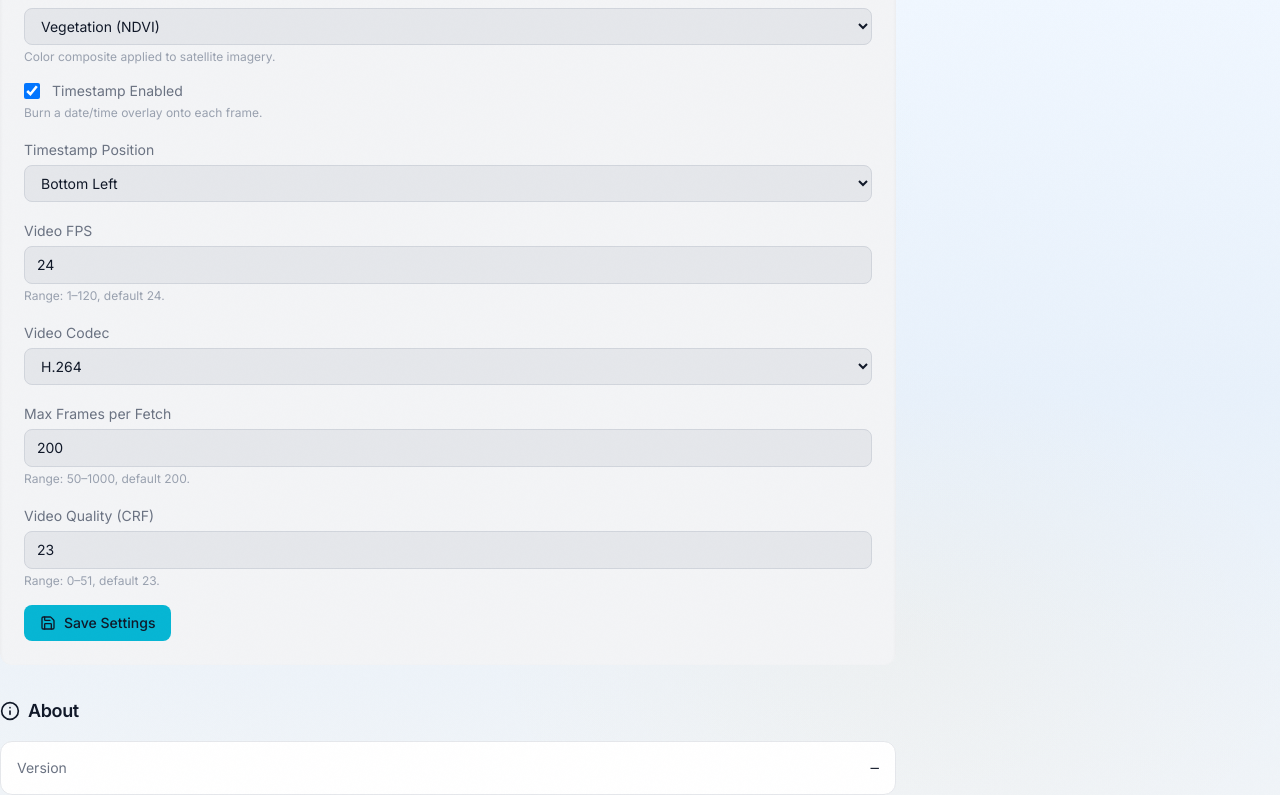
it: Settings - form interactions › saves settings successfully and shows toast
The width and height of the screenshot is (1280, 795).
(page scrolled)
Step 1. Click the button "Save Settings" → (98, 623), box [24,605,171,641]
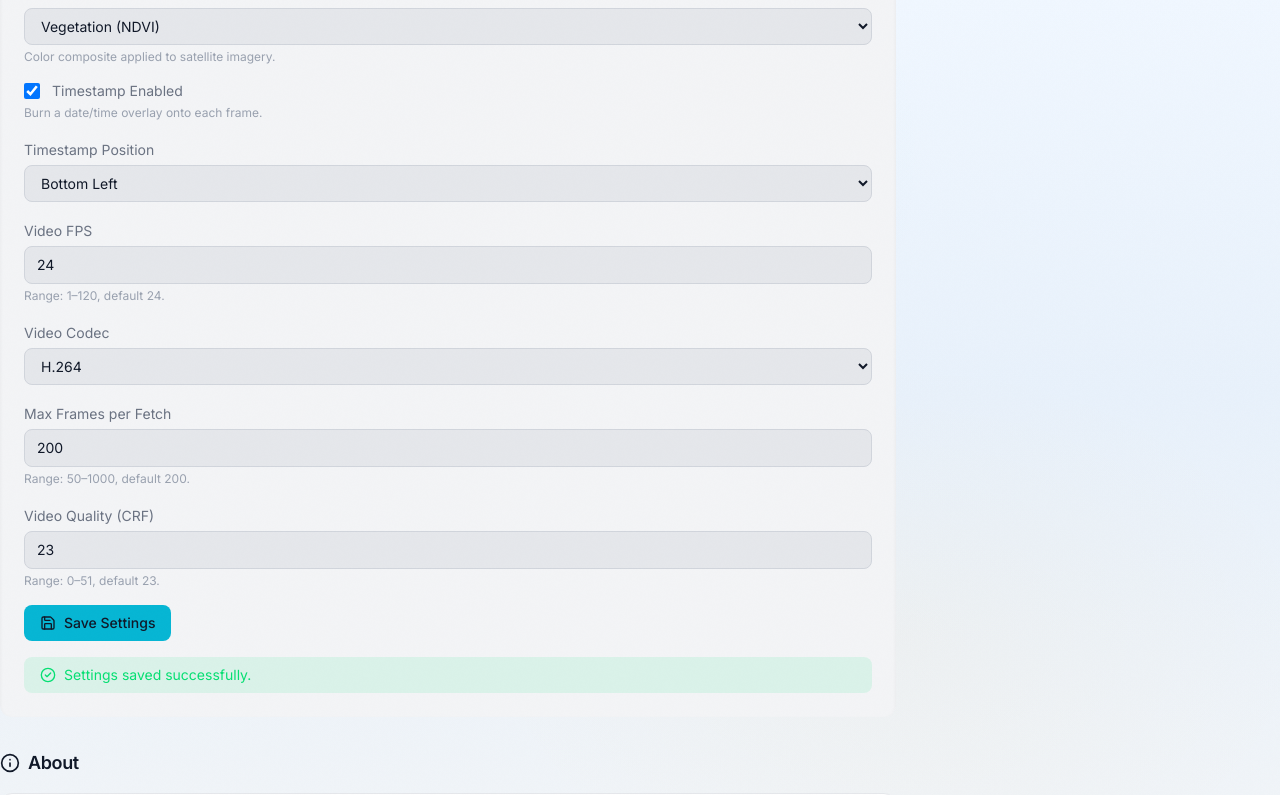
Check: the text "Settings saved successfully." is shown, box [24,657,872,693]
